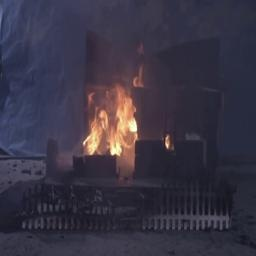fire: (77, 72, 149, 166)
